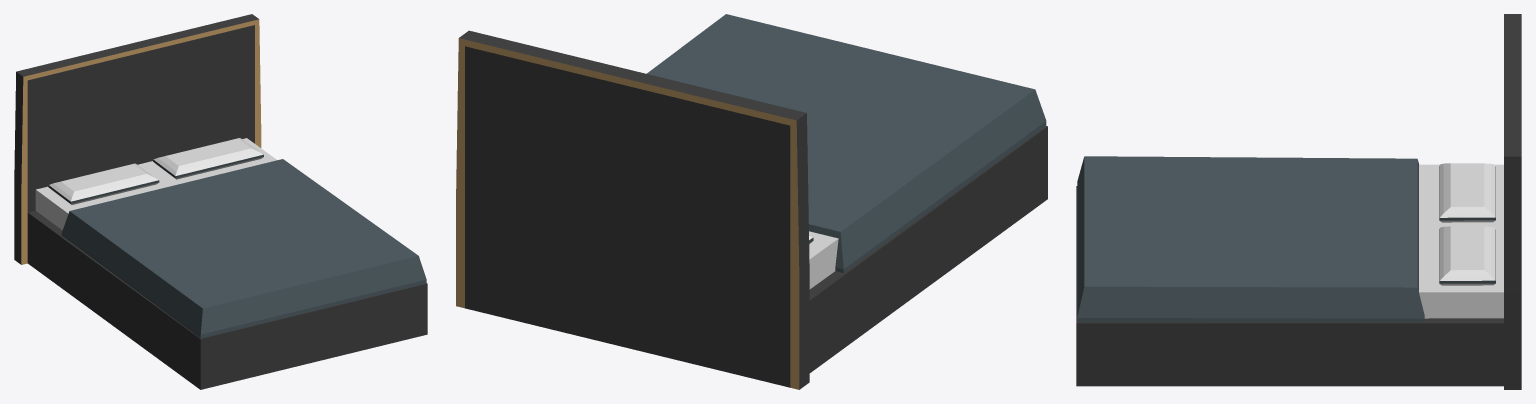
The model's file is Bed.fbx.
3 views of the same model, side by side, from view 1: azimuth 30°, elevation 25°; view 2: azimuth 150°, elevation 25°; view 3: azimuth 270°, elevation 25° (orthographic). The views are drawn at different scales.
Parts seen in each view (by area): view 1: Bed; view 2: Bed; view 3: Bed.
Boxes of the visible parts, x1,y1,x2,y2 form: Bed: (14,14,427,389); Bed: (456,14,1047,389); Bed: (1076,14,1521,389).
Size of the model in its own units: 187 by 140 by 243.
